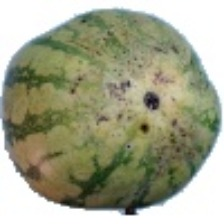watermelon: (50, 11, 192, 179)
